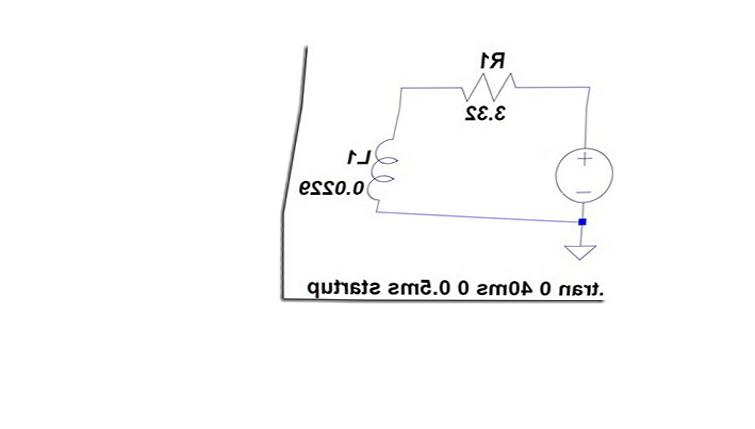Battery: (532, 134, 625, 213)
